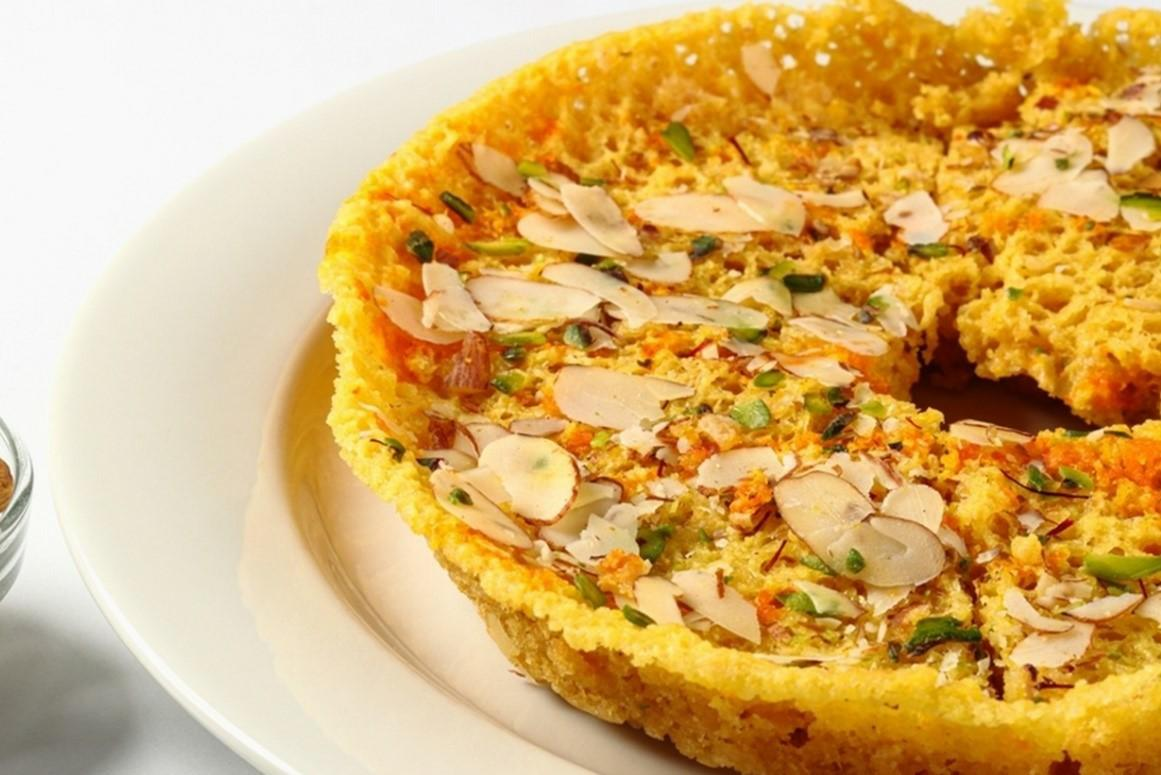Ghevar: (327, 0, 1161, 775)
